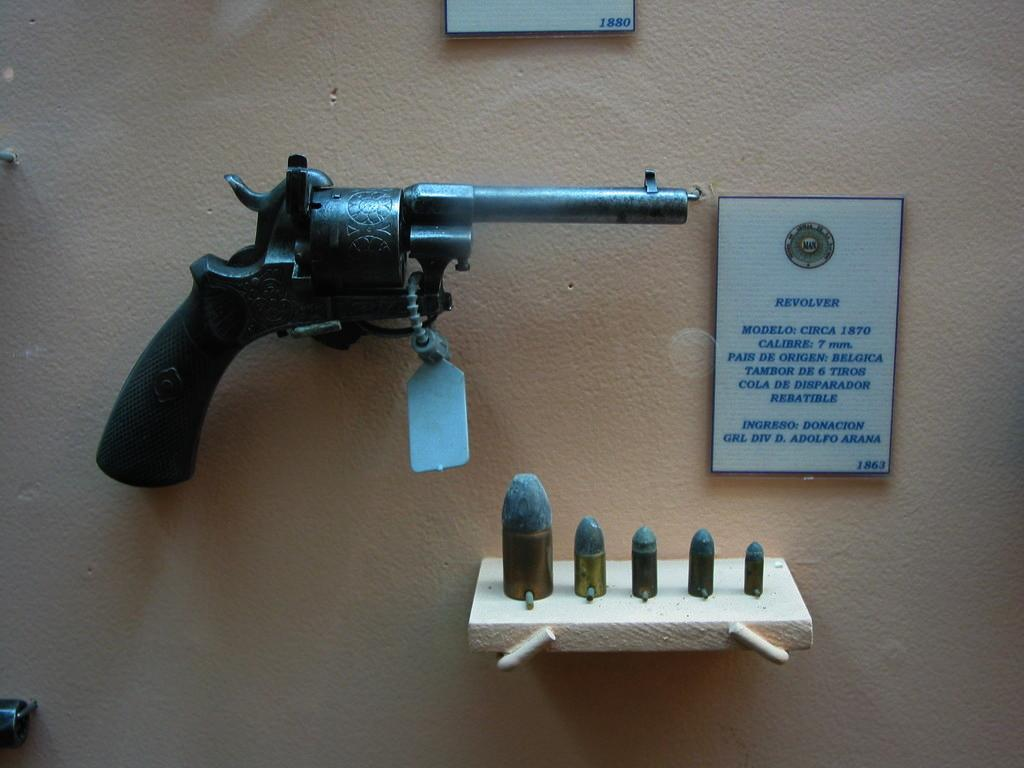gun: (86, 144, 690, 488)
